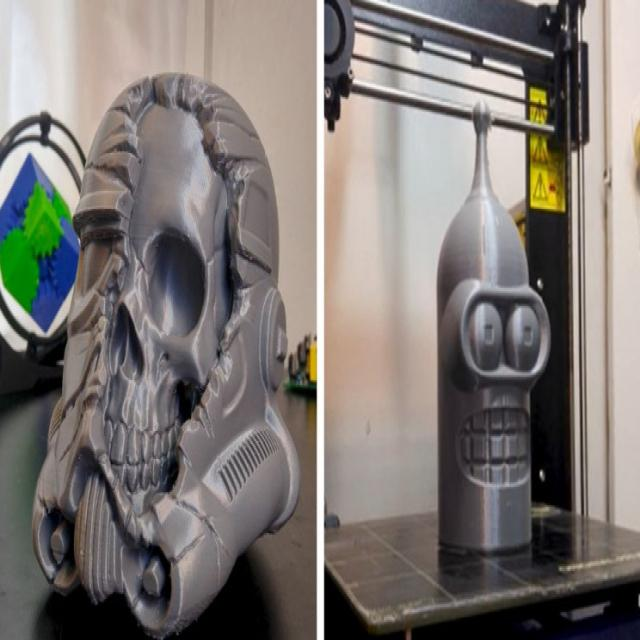Without deffect: (25, 51, 307, 624)
